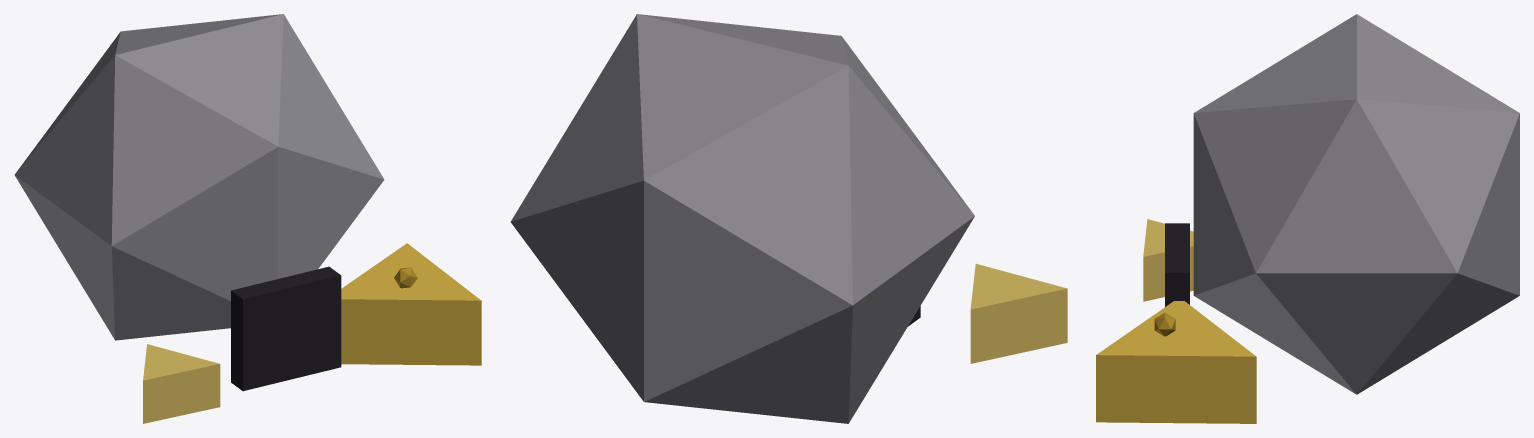
The model's file is cheese-cave.glb.
The picture shows the model from 3 angles, left to right: view 1: azimuth 30°, elevation 25°; view 2: azimuth 150°, elevation 25°; view 3: azimuth 270°, elevation 25°; orthographic projection. The views are drawn at different scales.
Visible parts, largest first — view 1: cheese_cave; view 2: cheese_cave; view 3: cheese_cave.
Boxes of the visible parts, left/top/right/bottom form: cheese_cave: left=14, top=14, right=481, bottom=423; cheese_cave: left=510, top=14, right=1067, bottom=423; cheese_cave: left=1096, top=14, right=1519, bottom=423.
Size of the model in its own units: 0.3063 by 0.2637 by 0.3427.
